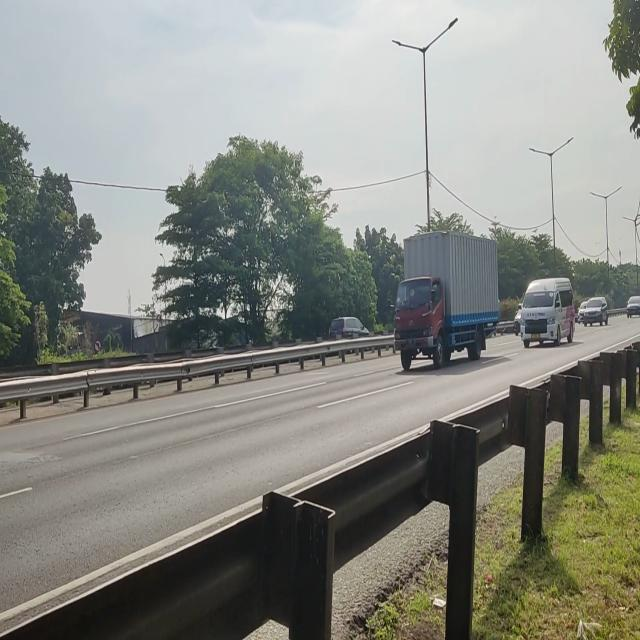Golongan I: (517, 273, 577, 350)
Golongan II: (392, 231, 500, 372)
